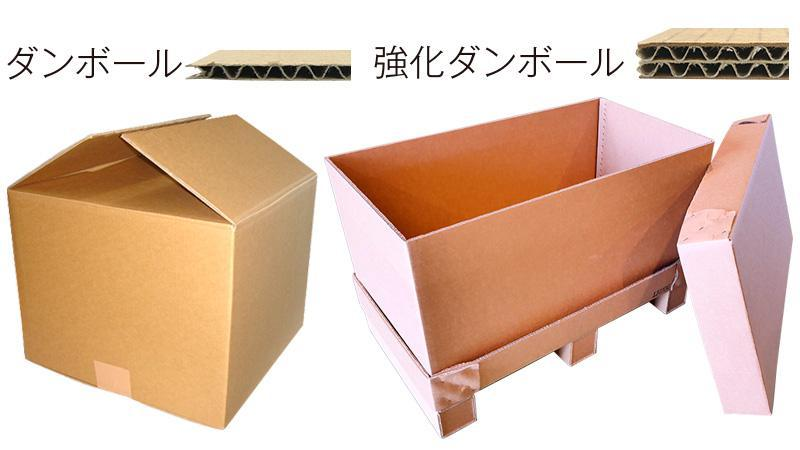box: (338, 131, 785, 422), (9, 116, 314, 429)
